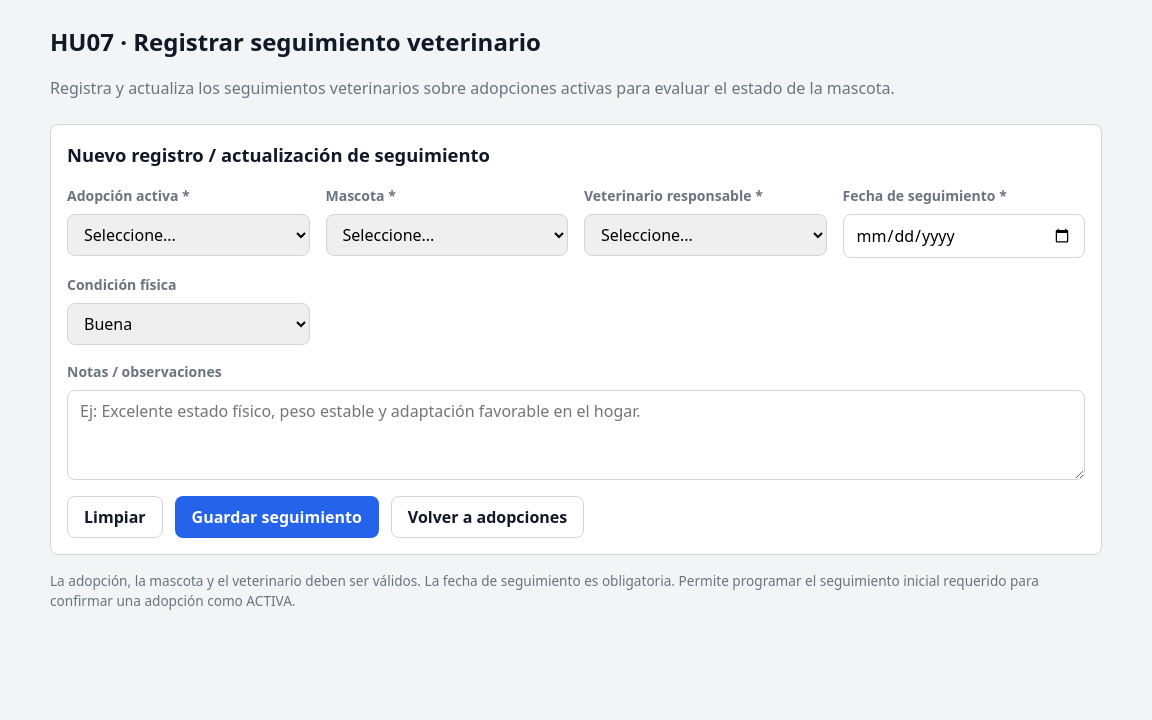
Test case: HU07 - FollowUpForm › registra un seguimiento cuando el formulario es válido
Select "AD-101 · Adoptante #9" in the dropdown labelled "Adopción activa *". click: point(188, 235)
box: [67,214,310,256]
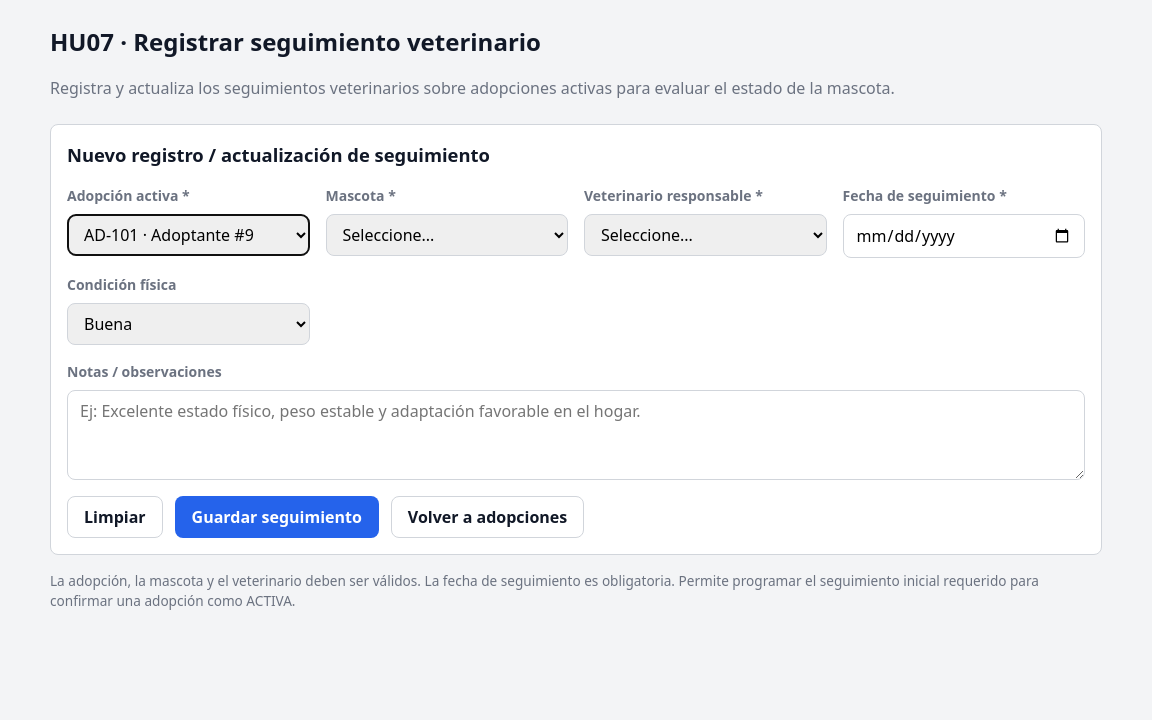
Select "Toby (Canino)" in the dropdown labelled "Mascota *". click: point(447, 235)
box: [326,214,568,256]
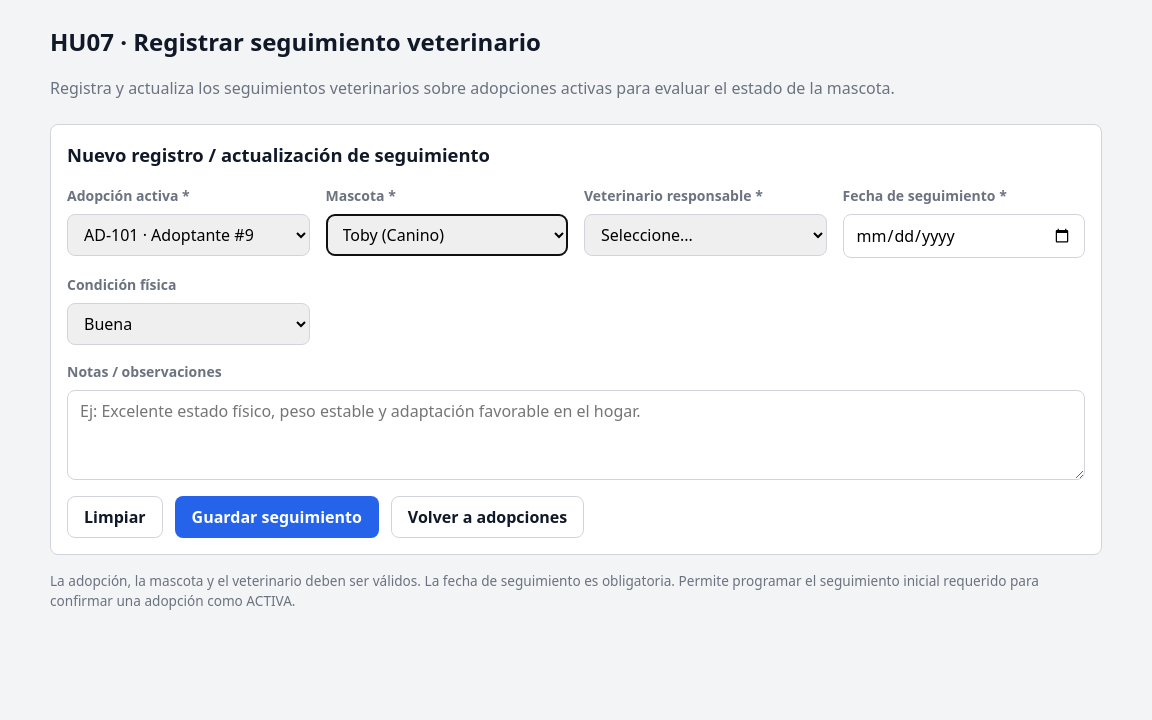
Select "Dr. Juan Parrado" in the dropdown labelled "Veterinario responsable *". click: point(705, 235)
box: [584,214,826,256]
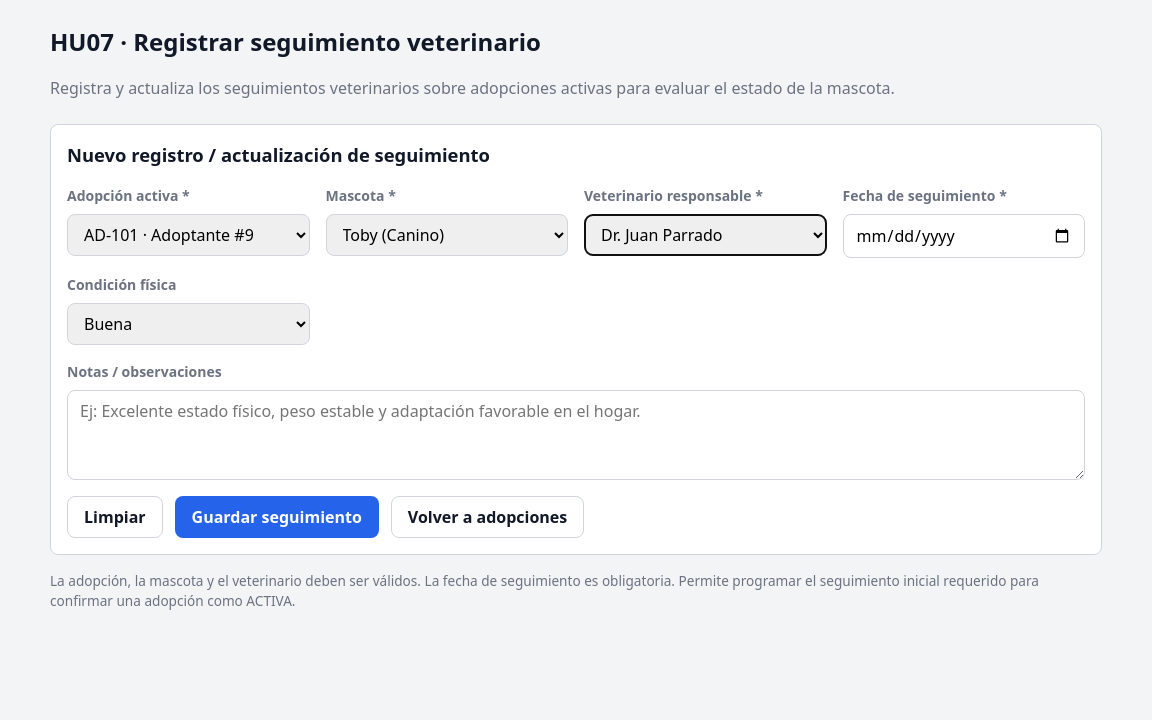
Type "2026-10-29" into the date field labelled "Fecha de seguimiento *". click: point(964, 236)
box: [842,214,1085,258]
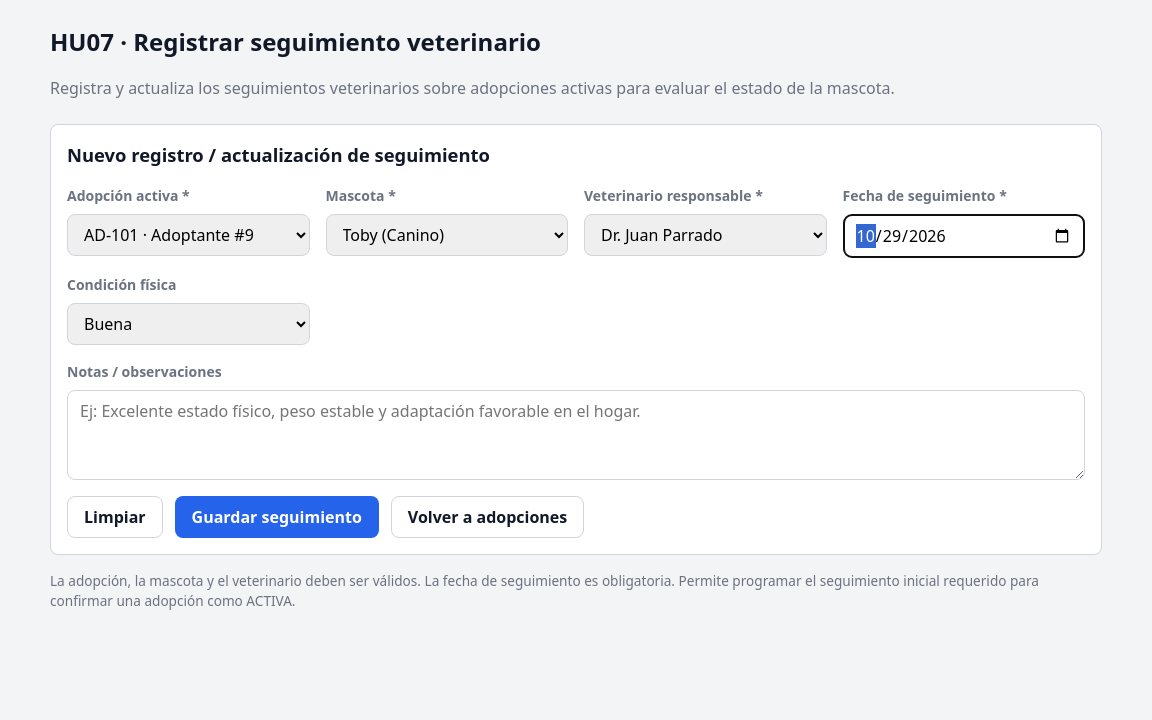
Click the button "Guardar seguimiento". click: point(277, 517)
box: [175,496,379,538]
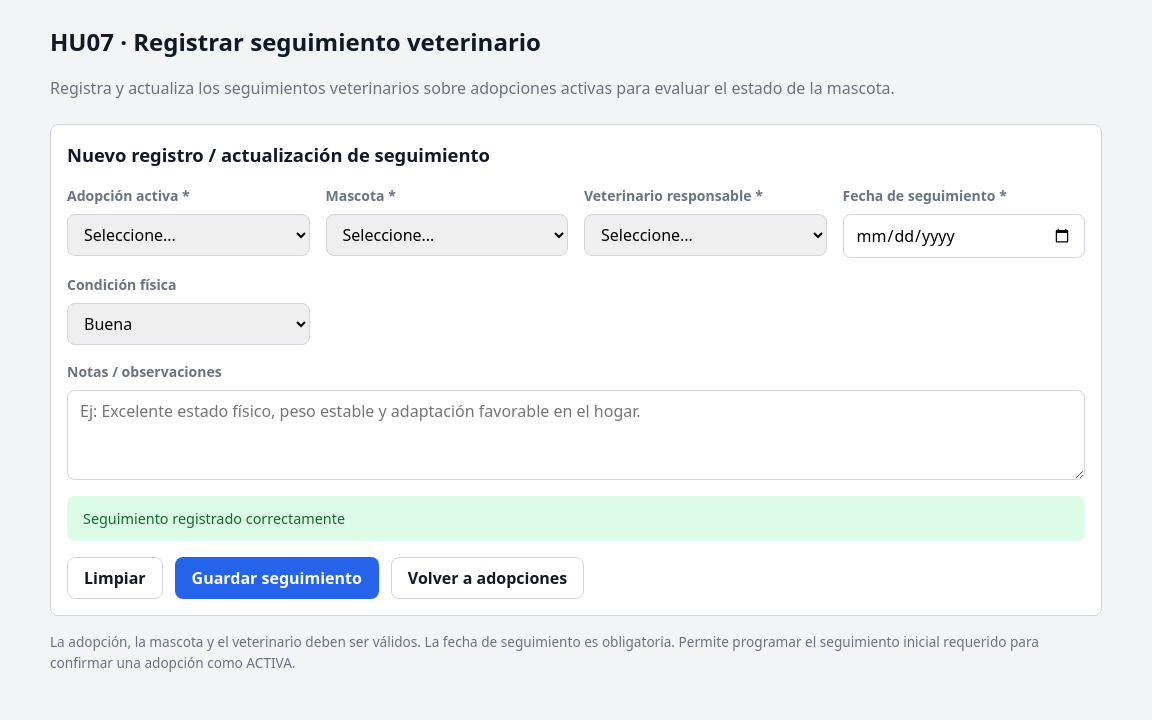
Check: the message shows "registrado correctamente", box [83,509,345,528]
